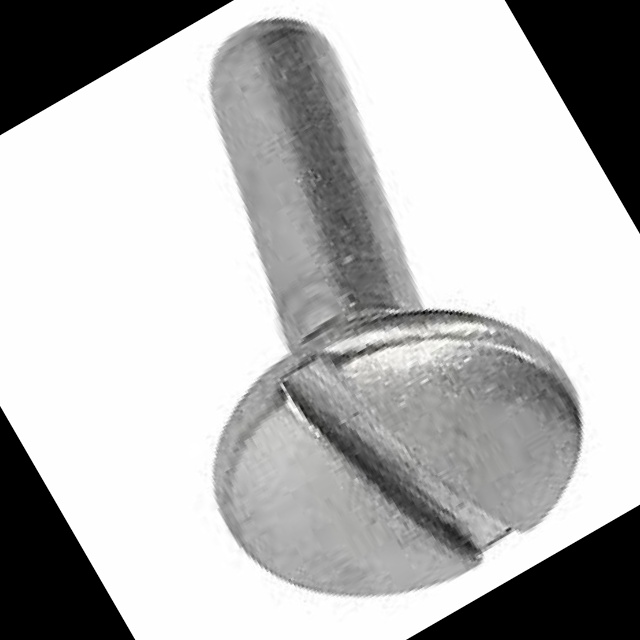duz: (169, 238, 632, 640)
